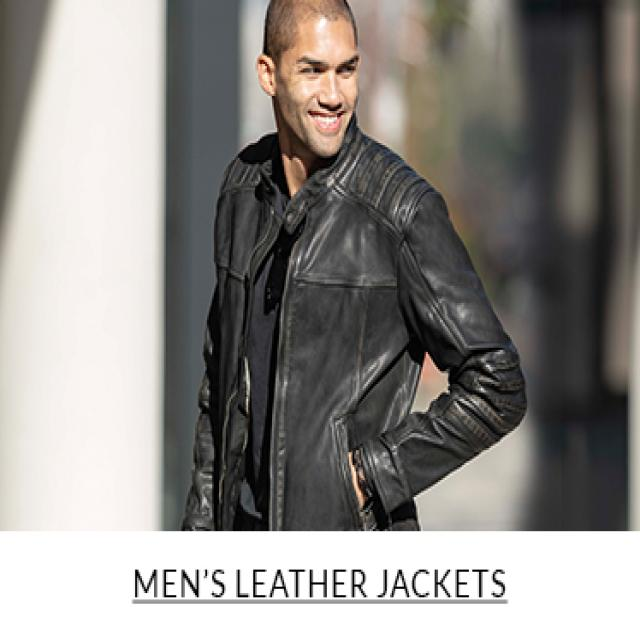mobile_phonerotation: (178, 0, 529, 529)
